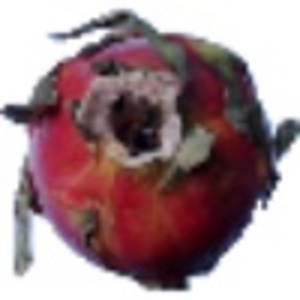pitaia: (1, 8, 300, 293)
